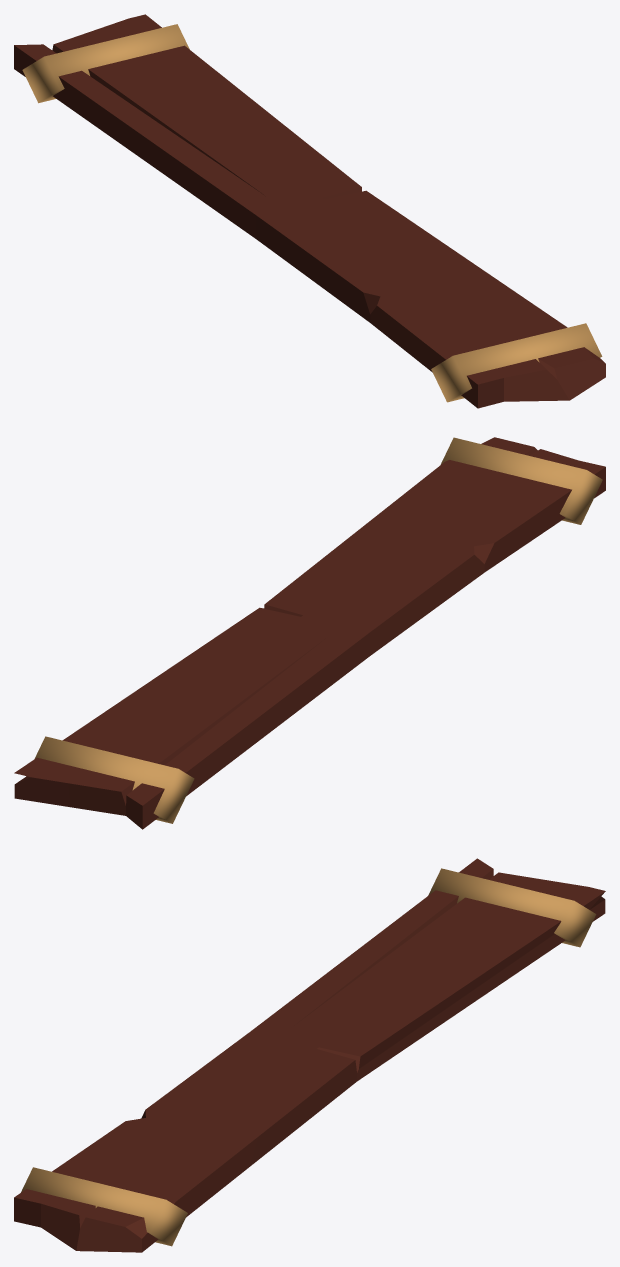
File: SM_Bridge_Plank_E.fbx
The picture shows the model from 3 angles, top to bottom: view 1: azimuth 30°, elevation 25°; view 2: azimuth 150°, elevation 25°; view 3: azimuth 330°, elevation 25°; orthographic projection.
Visible parts, largest first — view 1: SM_Plank_E.001; view 2: SM_Plank_E.001; view 3: SM_Plank_E.001.
Part boxes in pixels (x1,y1,x2,y2): SM_Plank_E.001: (14, 14, 605, 408); SM_Plank_E.001: (14, 437, 605, 829); SM_Plank_E.001: (14, 858, 605, 1252).
Size of the model in its own units: 116 by 722 by 42.46.
